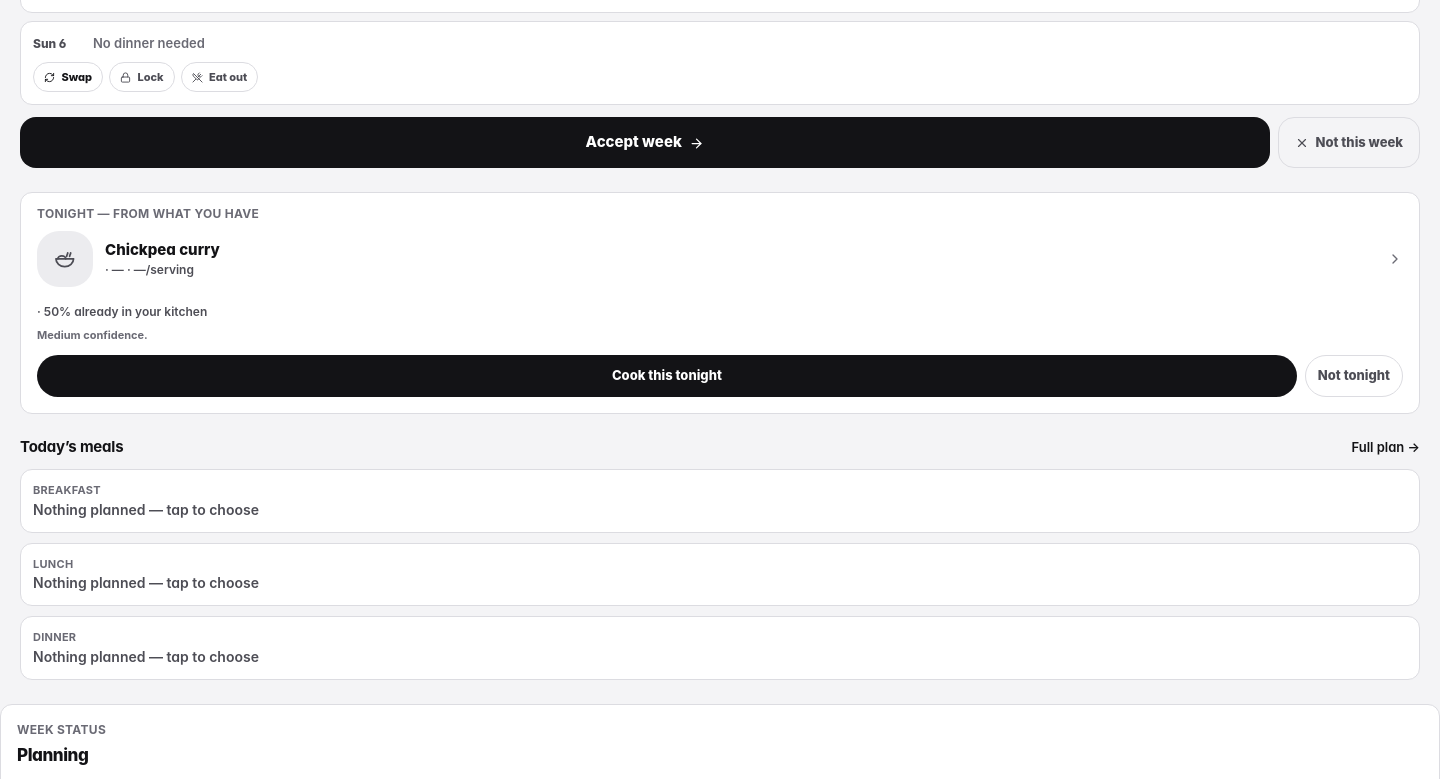
tonight card responses › Not tonight logs the rejection and cycles to the next suggestion
(page scrolled)
Check: the text "Chickpea curry" is shown, box [105,240,220,259]
What coordinates should you click on to do the following:
click the button "Not tonight"
I would click on:
 (1354, 376)
Its box is [1305,355,1403,397].
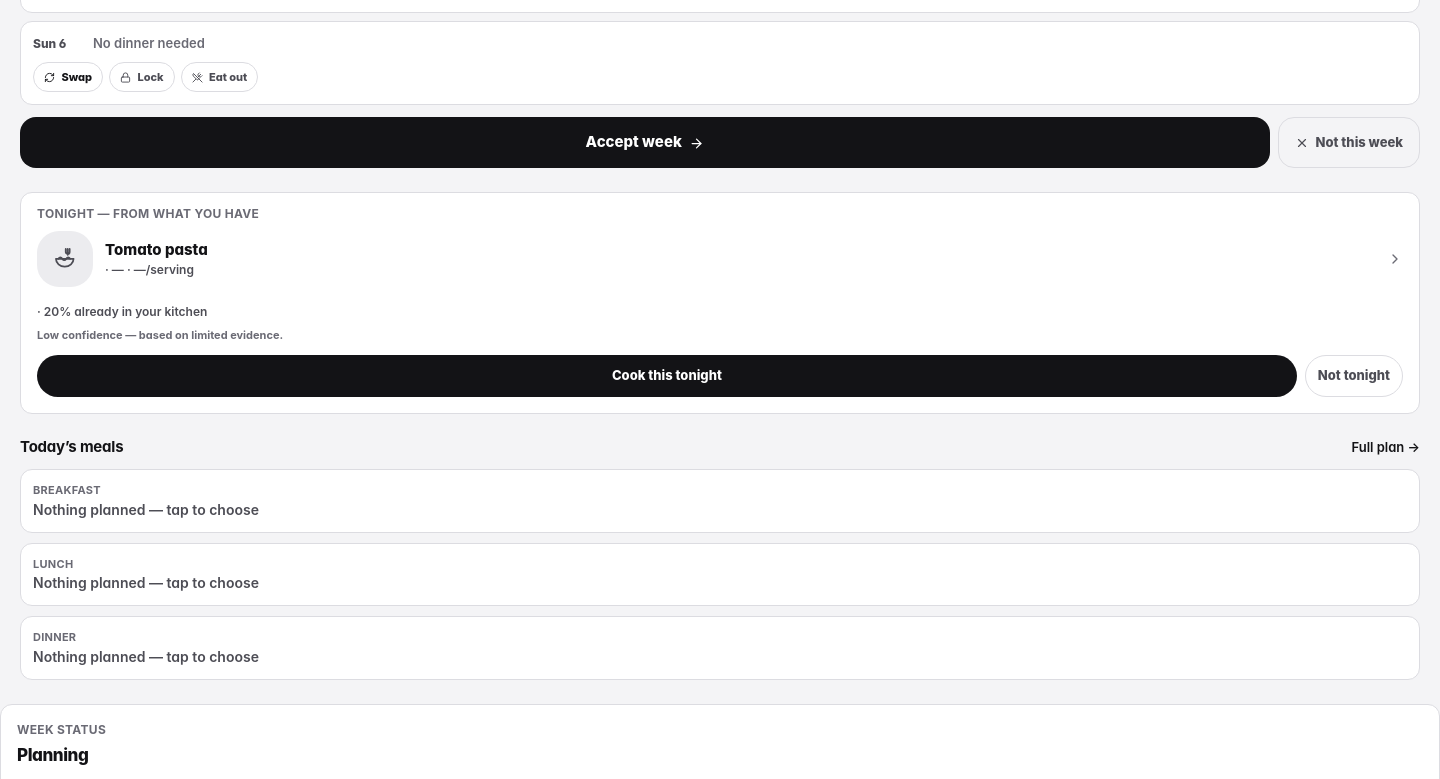
Check: the text "Tomato pasta" is shown, box [105,240,208,259]
